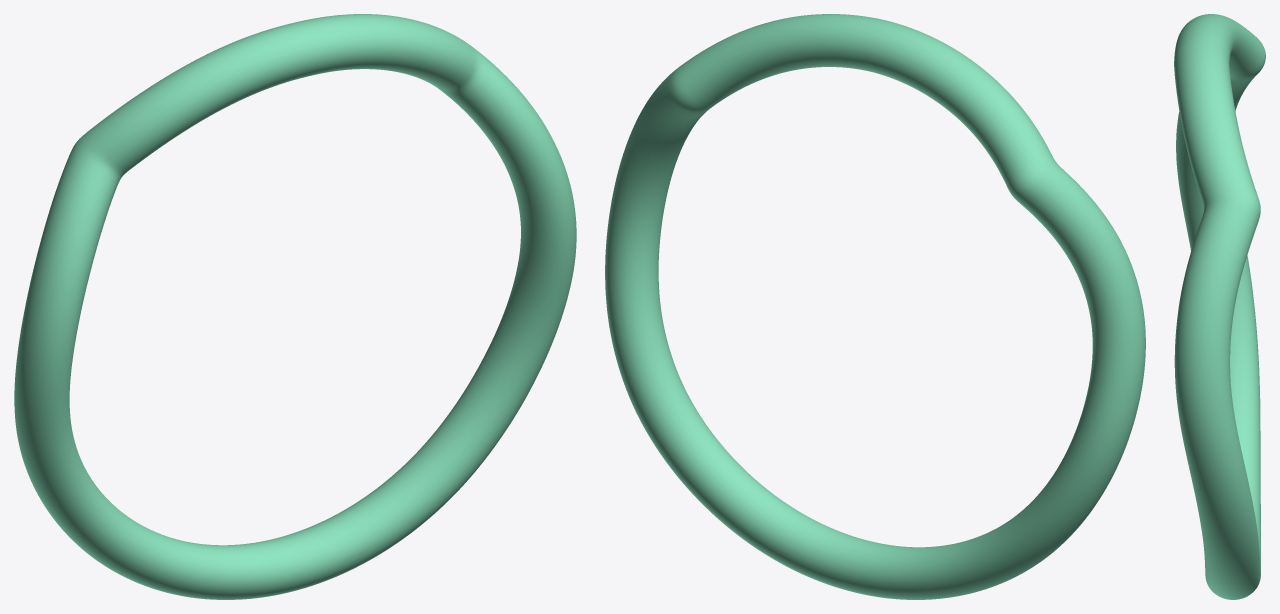
3 renders of one model, left to right at view 1: azimuth 30°, elevation 25°; view 2: azimuth 150°, elevation 25°; view 3: azimuth 270°, elevation 25°, orthographic. The views are drawn at different scales.
Parts seen in each view (by area): view 1: Metal03; view 2: Metal03; view 3: Metal03.
Part boxes in pixels (box(x1,y1,x2,y2)): Metal03: box(14, 14, 576, 599); Metal03: box(605, 14, 1145, 599); Metal03: box(1174, 14, 1265, 599).
Bounding box in the file's own units: 20.87 × 20.88 × 3.27.
